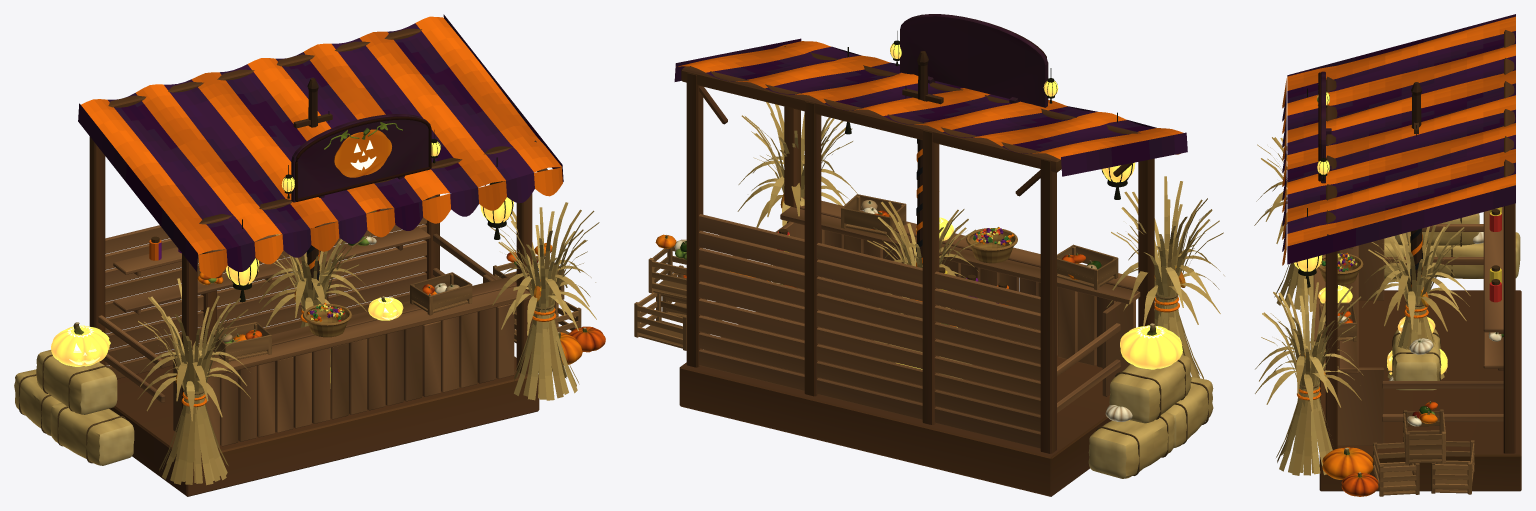
The model's file is gourdlight_decor.glb.
3 renders of one model, left to right at view 1: azimuth 30°, elevation 25°; view 2: azimuth 150°, elevation 25°; view 3: azimuth 270°, elevation 25°, orthographic. The views are drawn at different scales.
Parts seen in each view (by area): view 1: keeper_stall, corn_shock, garland_pole; view 2: keeper_stall, corn_shock, garland_pole; view 3: keeper_stall, corn_shock, hay_bale, garland_pole.
Boxes of the visible parts, x1=… form: keeper_stall: x1=14, y1=14, x2=605, y2=496; corn_shock: x1=256, y1=234, x2=368, y2=388; garland_pole: x1=293, y1=78, x2=332, y2=289; keeper_stall: x1=634, y1=14, x2=1224, y2=496; corn_shock: x1=864, y1=201, x2=979, y2=318; garland_pole: x1=902, y1=51, x2=943, y2=266; keeper_stall: x1=1254, y1=14, x2=1521, y2=496; corn_shock: x1=1362, y1=220, x2=1470, y2=379; hay_bale: x1=1392, y1=316, x2=1441, y2=390; garland_pole: x1=1410, y1=82, x2=1422, y2=287.
Bounding box in the file's own units: 7.06 × 4.83 × 3.31.
